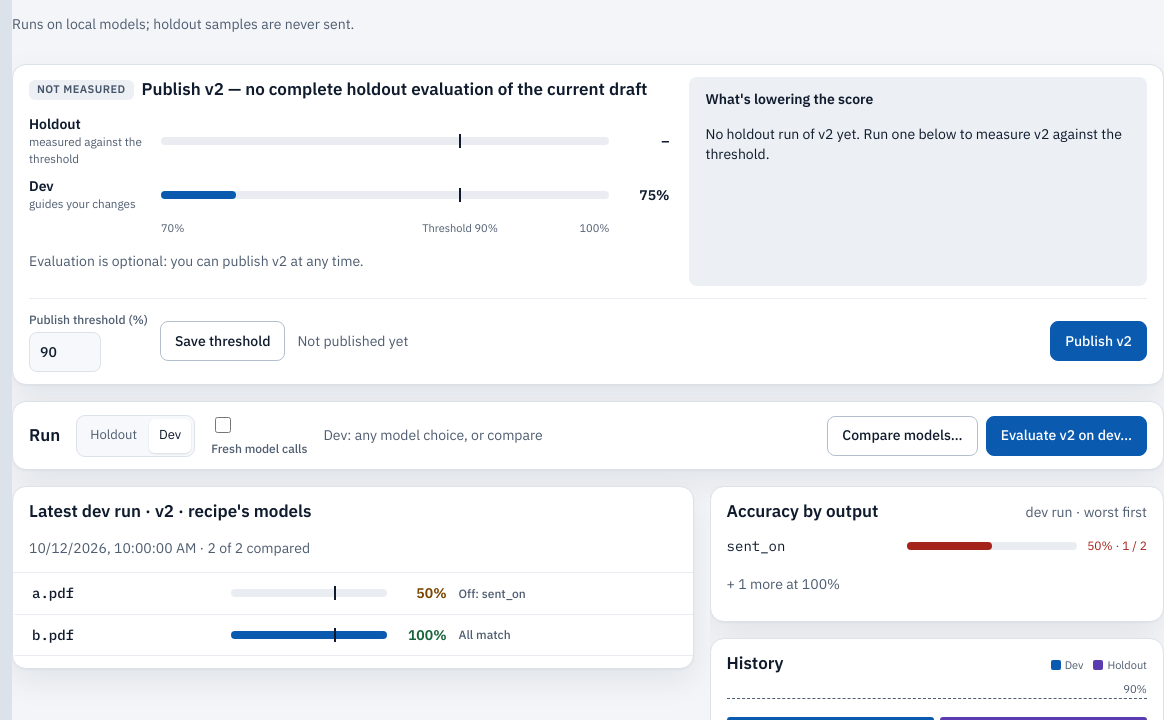
EvaluateTab › shows the latest run of the selected set
expect the heading "Latest dev run · v2 · recipe's models" is shown: met, box x1=29 y1=500 x2=312 y2=522
Click the button "Holdout" at (114, 436), box x1=80 y1=419 x2=147 y2=453
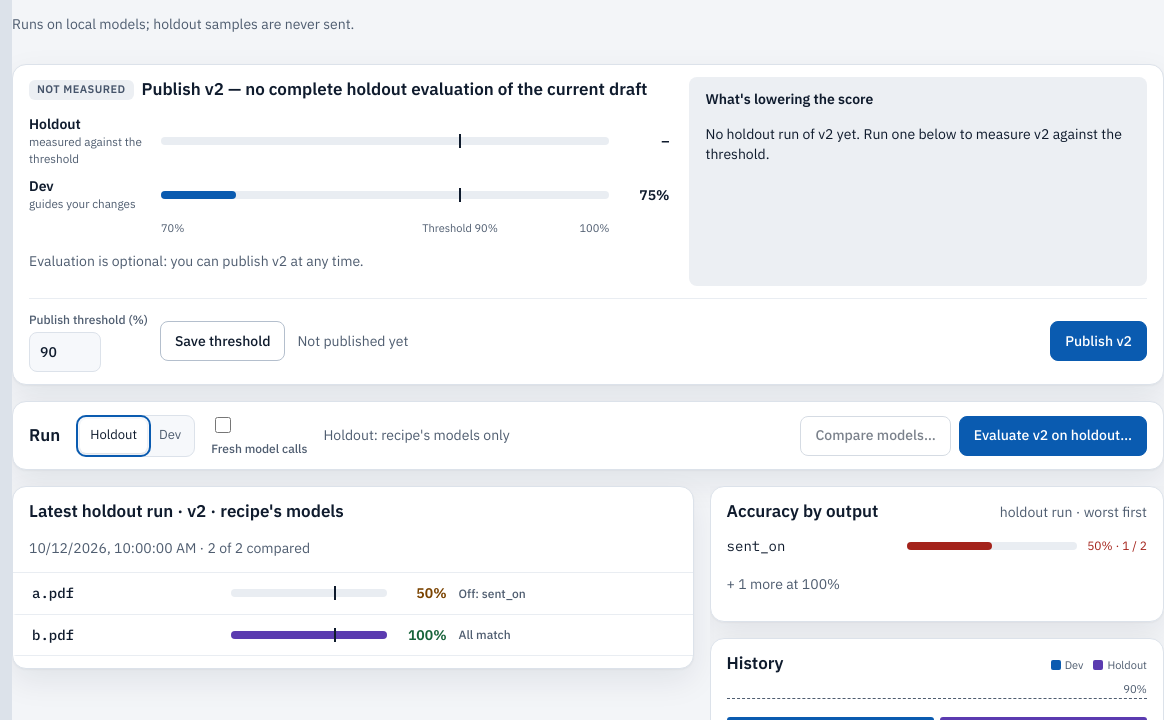
expect the heading "Latest holdout run · v2 · recipe's models" is shown: met, box x1=29 y1=500 x2=344 y2=522
